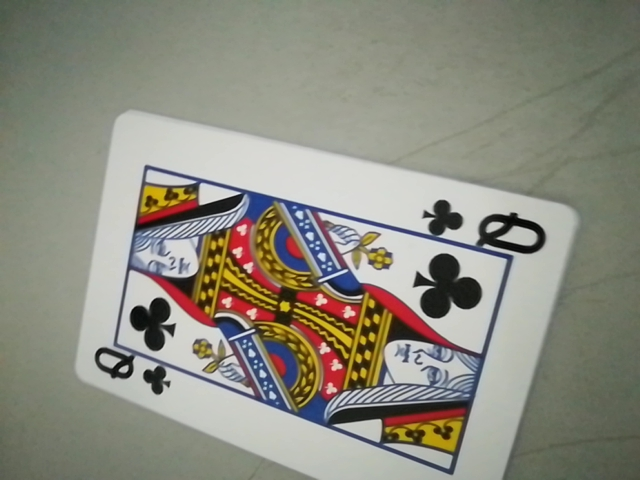mh j: (420, 195, 549, 255), (88, 343, 181, 400)
